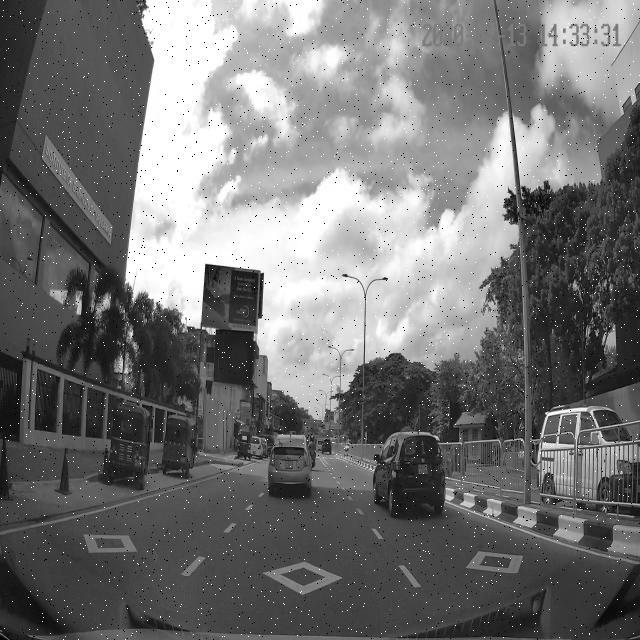diamond: (162, 522, 436, 613)
